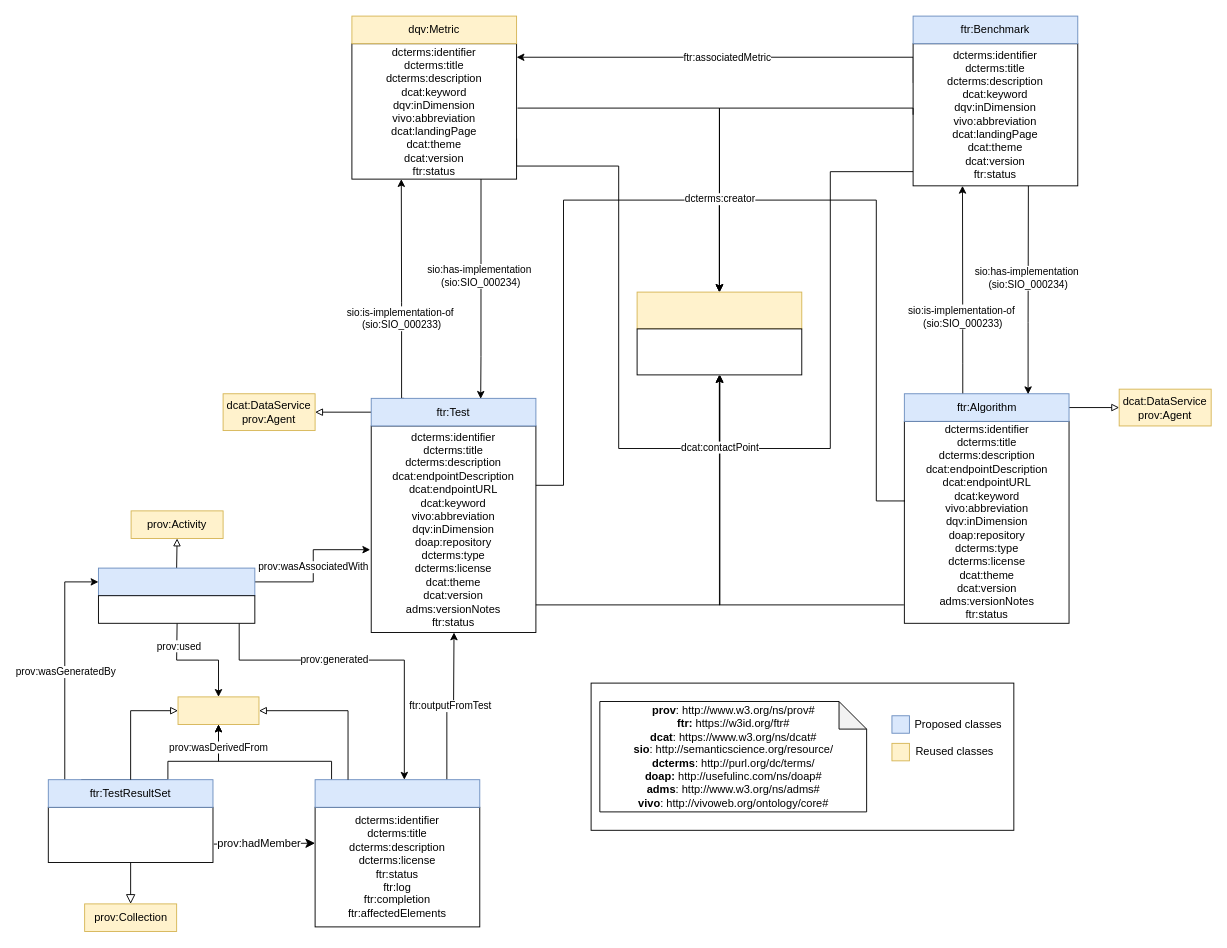
This 1227x948 diagram has some shape labels left out. Each missing label, with the centre of its shape:
dcterms:identifier dcterms:title dcterms:license: point 130,834
ftr:TestExecutionActivity: point 176,581
ftr:TestResult: point 397,793
prov:Entity: point 218,710
vcard:fn vcard:organization-name vcard:email: point 719,351
vcard:Individual vcard.Organization: point 719,310
